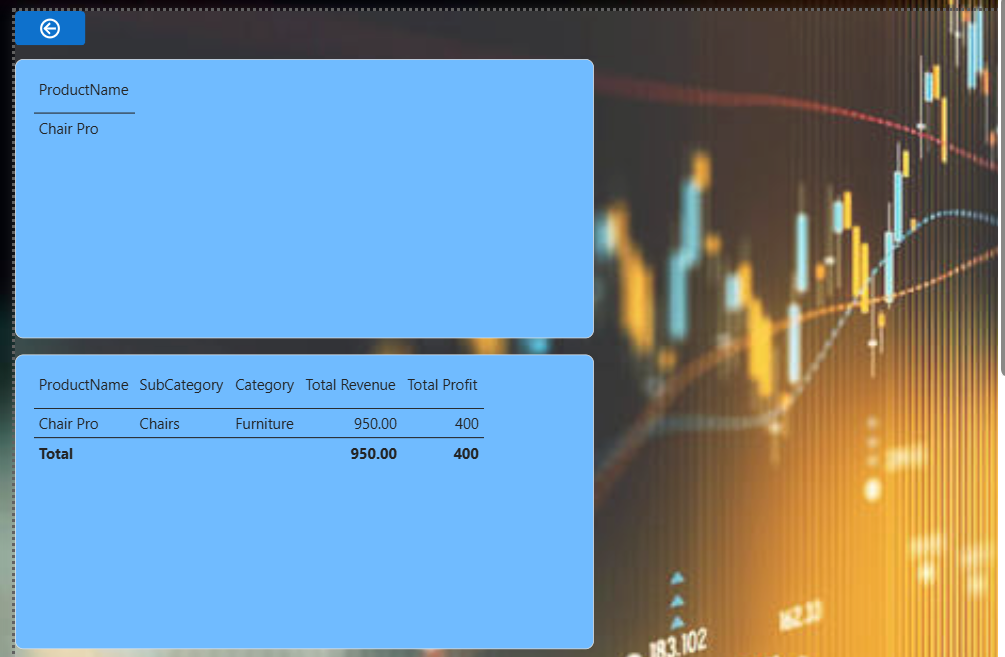

This screenshot's page, from the dashboard's own definition file:
{"tool":"powerbi","page":{"name":"Product Detail","canvas":[1920,1080],"ordinal":4},"visuals":[{"type":"tableEx","fields":{"Values":["Products.ProductName"]},"box":[0,45.7,551.4,265.7],"z":0},{"type":"tableEx","fields":{"Values":["Products.ProductName","Products.SubCategory","Products.Category","Customers.Total Revenue","Customers.Total Profit"]},"box":[0,327.1,551.1,280.9],"z":1000},{"type":"actionButton","box":[0,0,67.1,32.9],"z":2000}]}

Visuals, with their boxes on the page's 1920x1080 design canvas (x1, y1, x2, y2). These are canvas units, not pixel positions in the 1005x657 screenshot, which may show the page scaled, cropped or inside an application window:
tableEx - Products.ProductName: bbox=(0, 46, 551, 311)
tableEx - Products.ProductName x Products.SubCategory: bbox=(0, 327, 551, 608)
actionButton: bbox=(0, 0, 67, 33)
